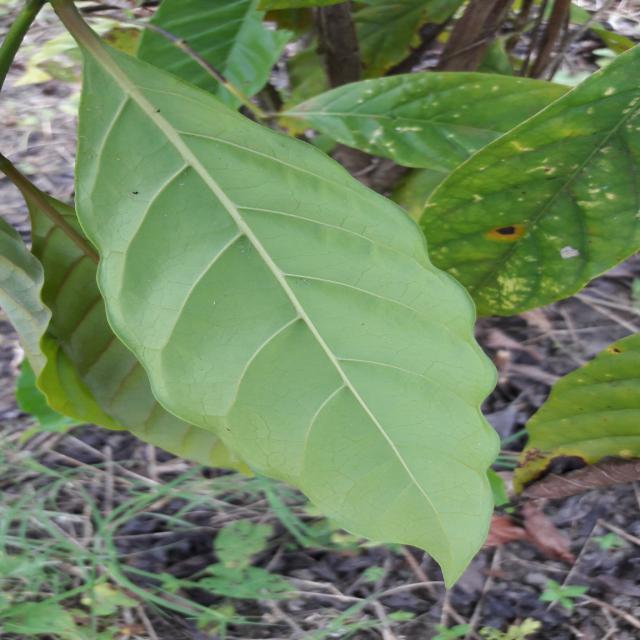Sanas: (47, 0, 503, 590)
